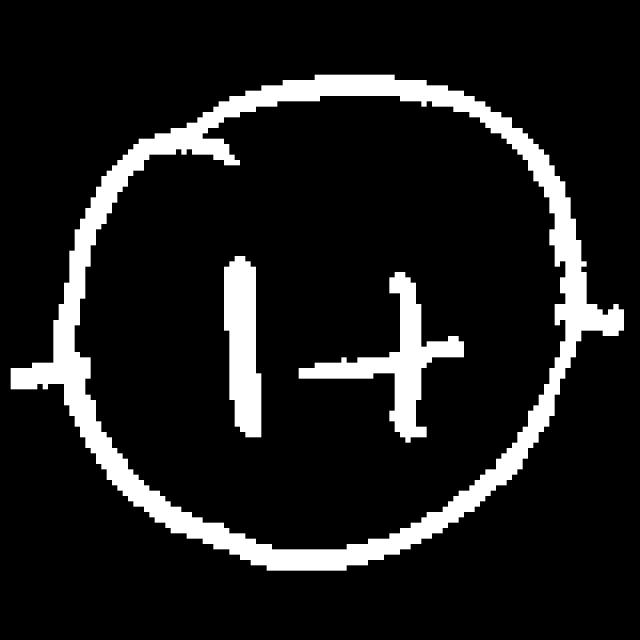voltage_source: (48, 75, 582, 577)
